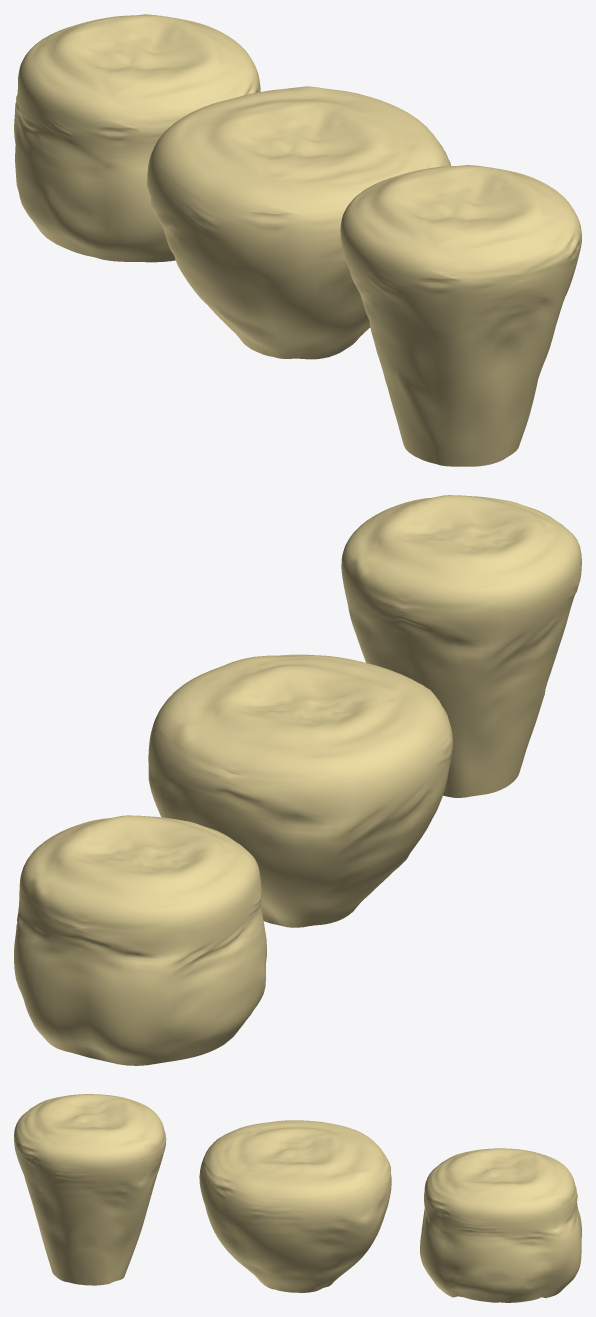
The model's file is Lamp.glb.
The picture shows the model from 3 angles, top to bottom: view 1: azimuth 30°, elevation 25°; view 2: azimuth 150°, elevation 25°; view 3: azimuth 270°, elevation 25°; orthographic projection. The views are drawn at different scales.
Parts seen in each view (by area): view 1: TALL LANTERN_1, FAT LANTERN_2, SHORT FAT LANTERN_3; view 2: FAT LANTERN_2, SHORT FAT LANTERN_3, TALL LANTERN_1; view 3: FAT LANTERN_2, TALL LANTERN_1, SHORT FAT LANTERN_3.
Boxes of the visible parts, x1,y1,x2,y2 form: TALL LANTERN_1: (340,165,581,466); FAT LANTERN_2: (147,86,450,359); SHORT FAT LANTERN_3: (14,14,260,262); FAT LANTERN_2: (148,654,452,927); SHORT FAT LANTERN_3: (14,815,266,1065); TALL LANTERN_1: (341,495,581,797); FAT LANTERN_2: (199,1120,391,1292); TALL LANTERN_1: (14,1094,166,1285); SHORT FAT LANTERN_3: (420,1148,581,1302).
Bounding box in the file's own units: 3.42 × 3.32 × 10.26.
